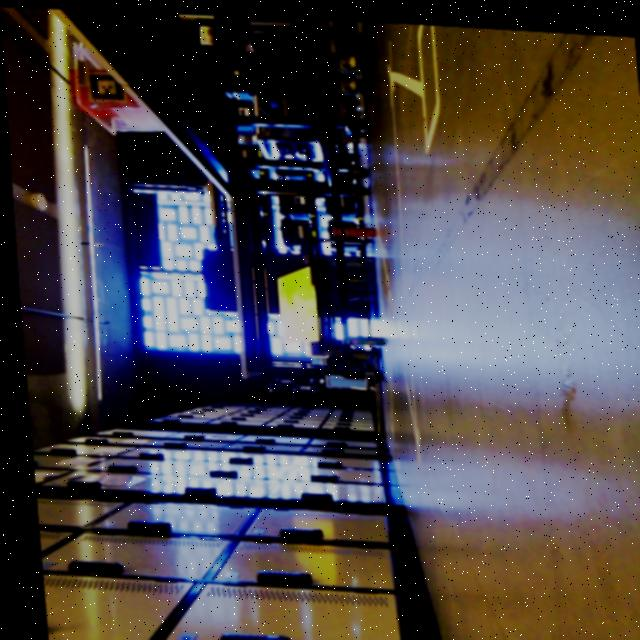greenpringles: (330, 324, 383, 347)
redpringles: (325, 214, 385, 241)
